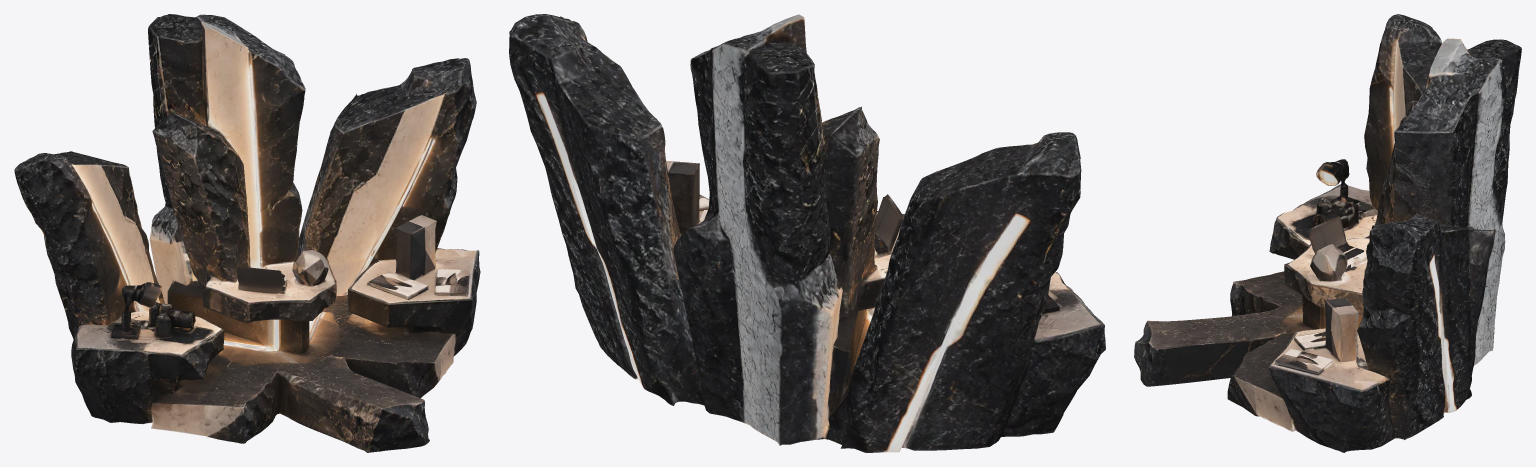
The model's file is servizi-mobile.glb.
3 views of the same model, side by side, from view 1: azimuth 30°, elevation 25°; view 2: azimuth 150°, elevation 25°; view 3: azimuth 270°, elevation 25° (orthographic). The views are drawn at different scales.
Parts seen in each view (by area): view 1: Mesh0; view 2: Mesh0; view 3: Mesh0.
Part boxes in pixels (box(x1,y1,x2,y2)): Mesh0: box(14, 14, 480, 452); Mesh0: box(509, 14, 1105, 452); Mesh0: box(1134, 14, 1521, 452).
Size of the model in its own units: 1.89 by 1.28 by 1.43.
Materials: 1 (1 with a texture image).
